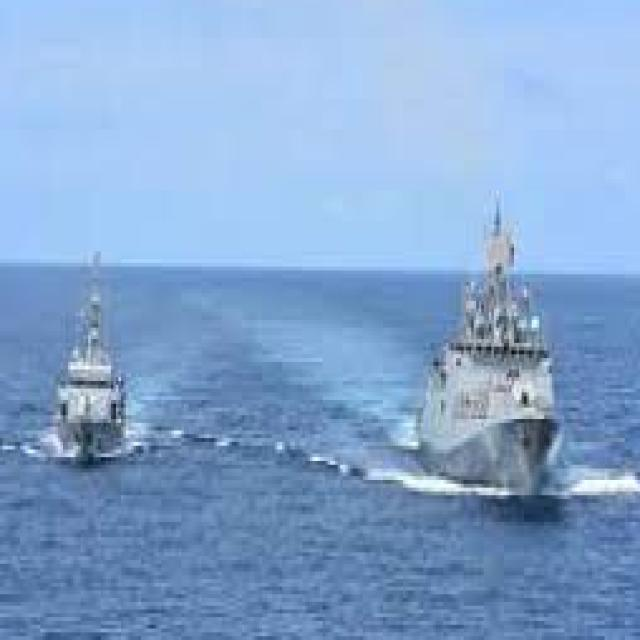navalvessels: (425, 191, 561, 496), (36, 260, 139, 466)
